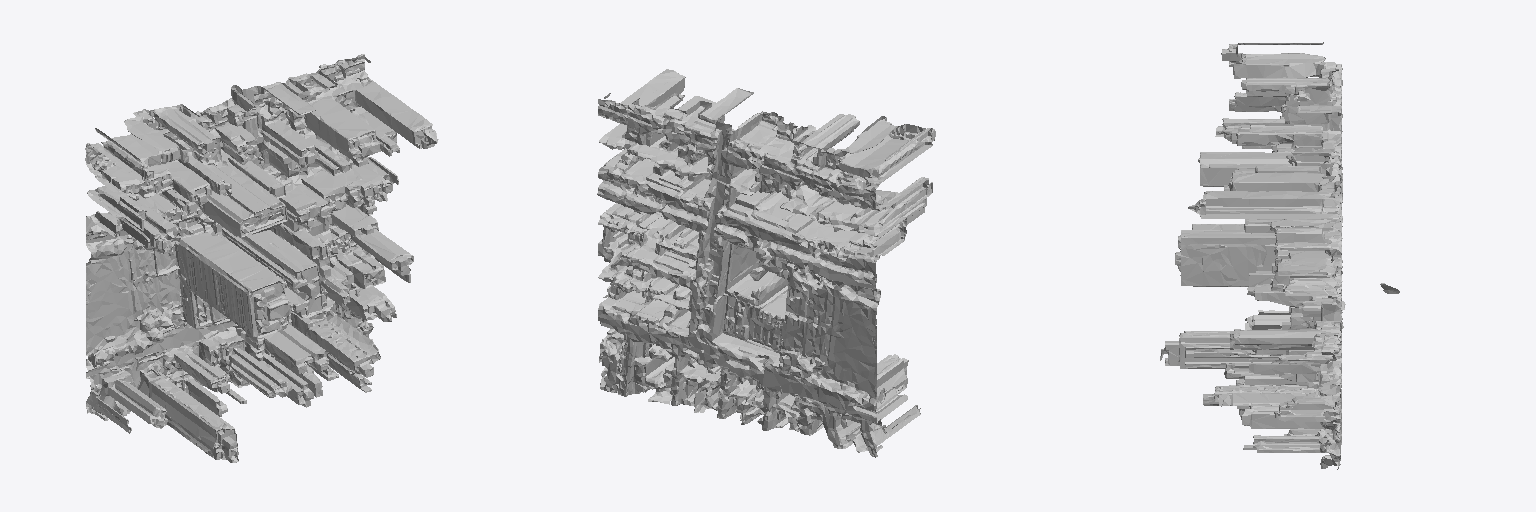
File: fuyuan_newModel.obj
3 views of the same model, side by side, from view 1: azimuth 30°, elevation 25°; view 2: azimuth 150°, elevation 25°; view 3: azimuth 270°, elevation 25° (orthographic).
Bounding box in the file's own units: 250 × 250 × 187.